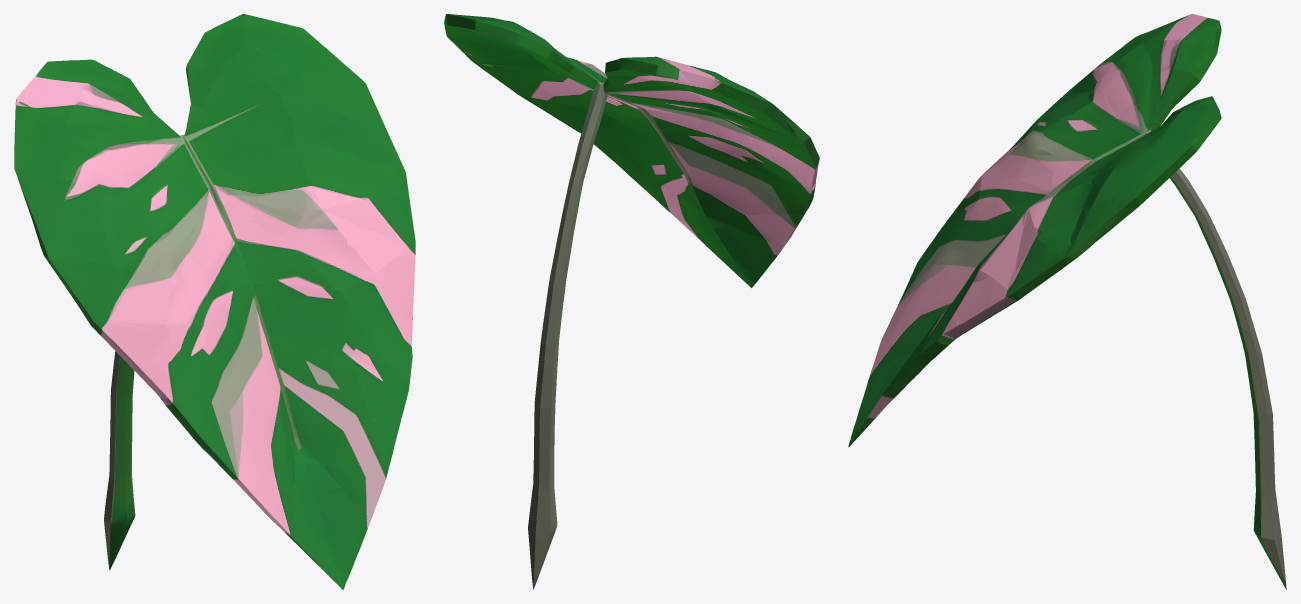
File: pp_leaf_mid.glb
The picture shows the model from 3 angles, left to right: view 1: azimuth 30°, elevation 25°; view 2: azimuth 150°, elevation 25°; view 3: azimuth 270°, elevation 25°; orthographic projection. The views are drawn at different scales.
Bounding box in the file's own units: 1.27 × 1.9 × 1.44.
1 material, 1 textured.
